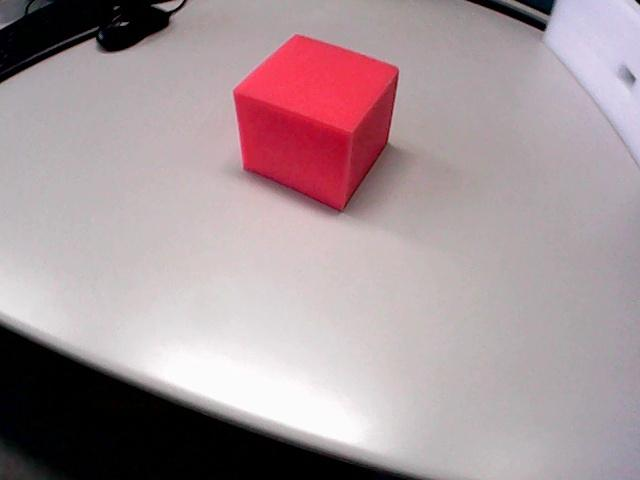red_block: (234, 35, 398, 209)
